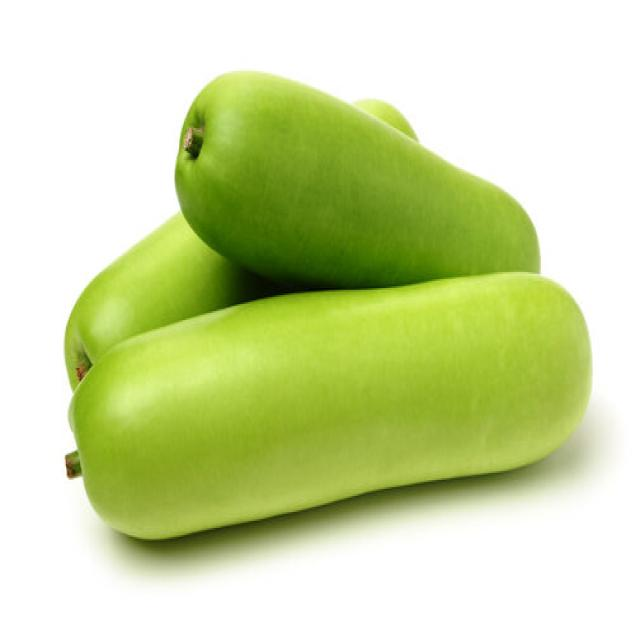Bottle Gourd: (65, 268, 592, 540), (173, 68, 541, 288), (62, 208, 263, 391)
